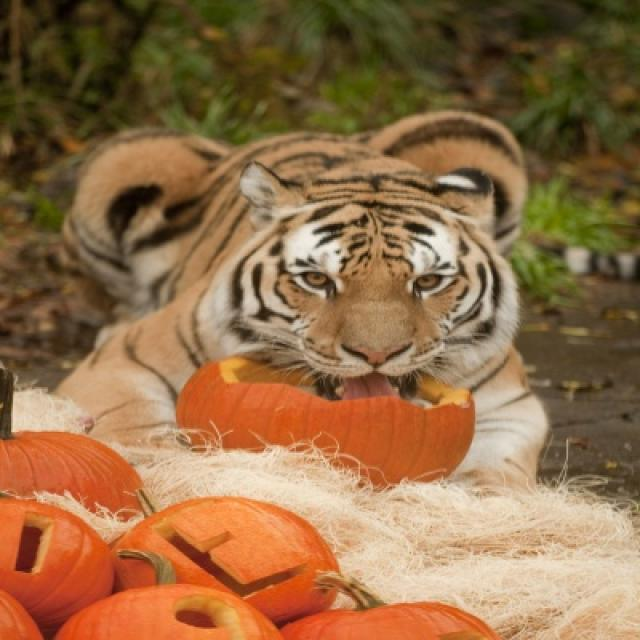Tiger: (73, 106, 560, 476)
